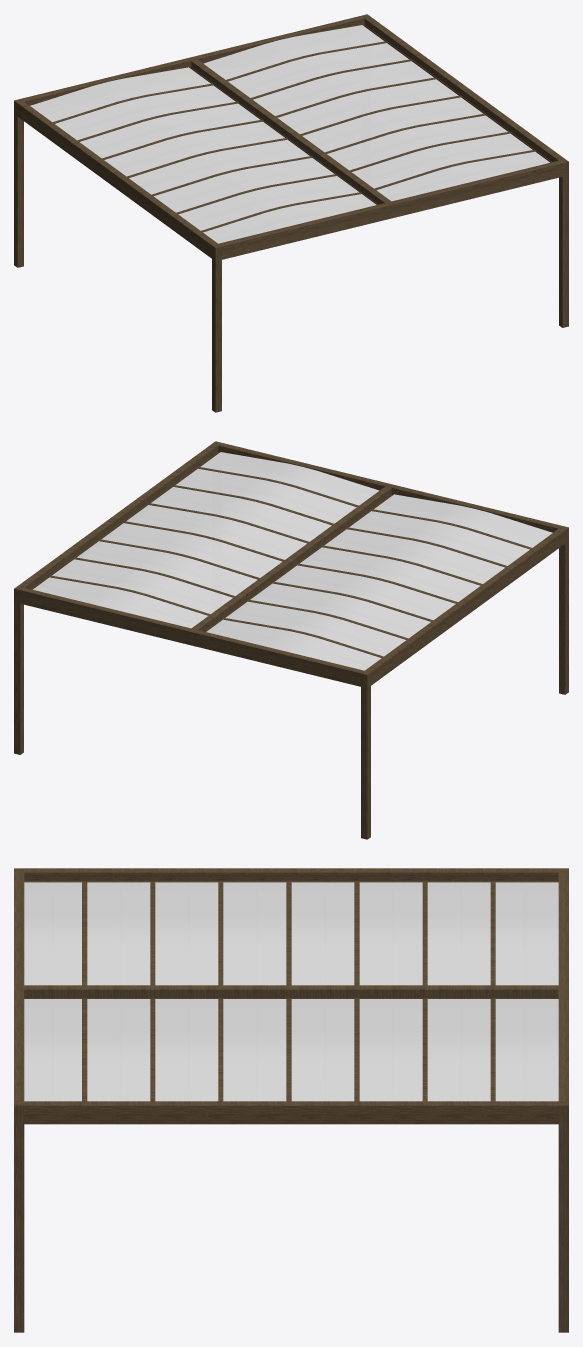
File: hyrcaryaad-h24-w54-d53_brownebony.fbx
3 views of the same model, one above another, from view 1: azimuth 30°, elevation 25°; view 2: azimuth 150°, elevation 25°; view 3: azimuth 270°, elevation 25° (orthographic). The views are drawn at different scales.
Parts seen in each view (by area): view 1: hyrcaryaad-h24-w54-d53-brownebony; view 2: hyrcaryaad-h24-w54-d53-brownebony; view 3: hyrcaryaad-h24-w54-d53-brownebony.
Boxes of the visible parts, left/top/right/bottom form: hyrcaryaad-h24-w54-d53-brownebony: left=14, top=14, right=568, bottom=412; hyrcaryaad-h24-w54-d53-brownebony: left=14, top=441, right=568, bottom=839; hyrcaryaad-h24-w54-d53-brownebony: left=14, top=868, right=568, bottom=1332.
Size of the model in its own units: 550 by 245 by 543.
2 materials, 1 textured.
